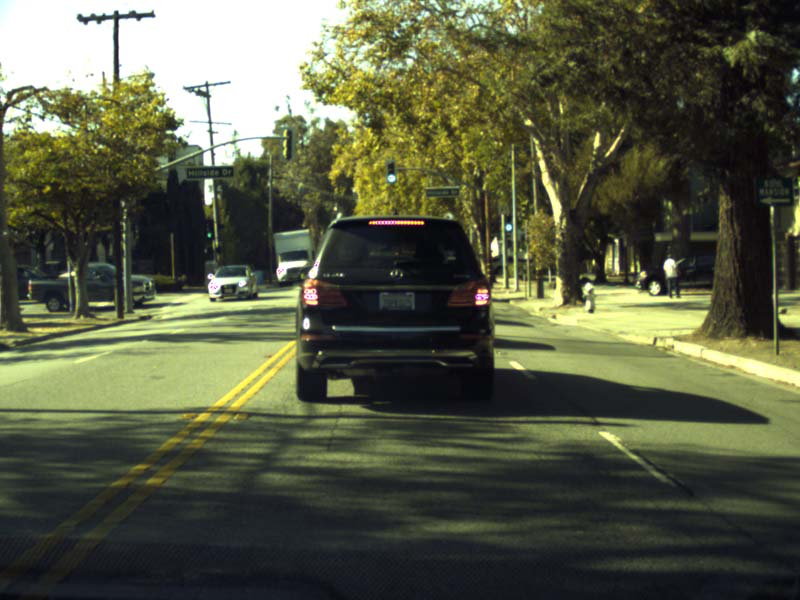Green: (386, 160, 396, 183), (203, 220, 213, 238), (503, 214, 512, 232)
